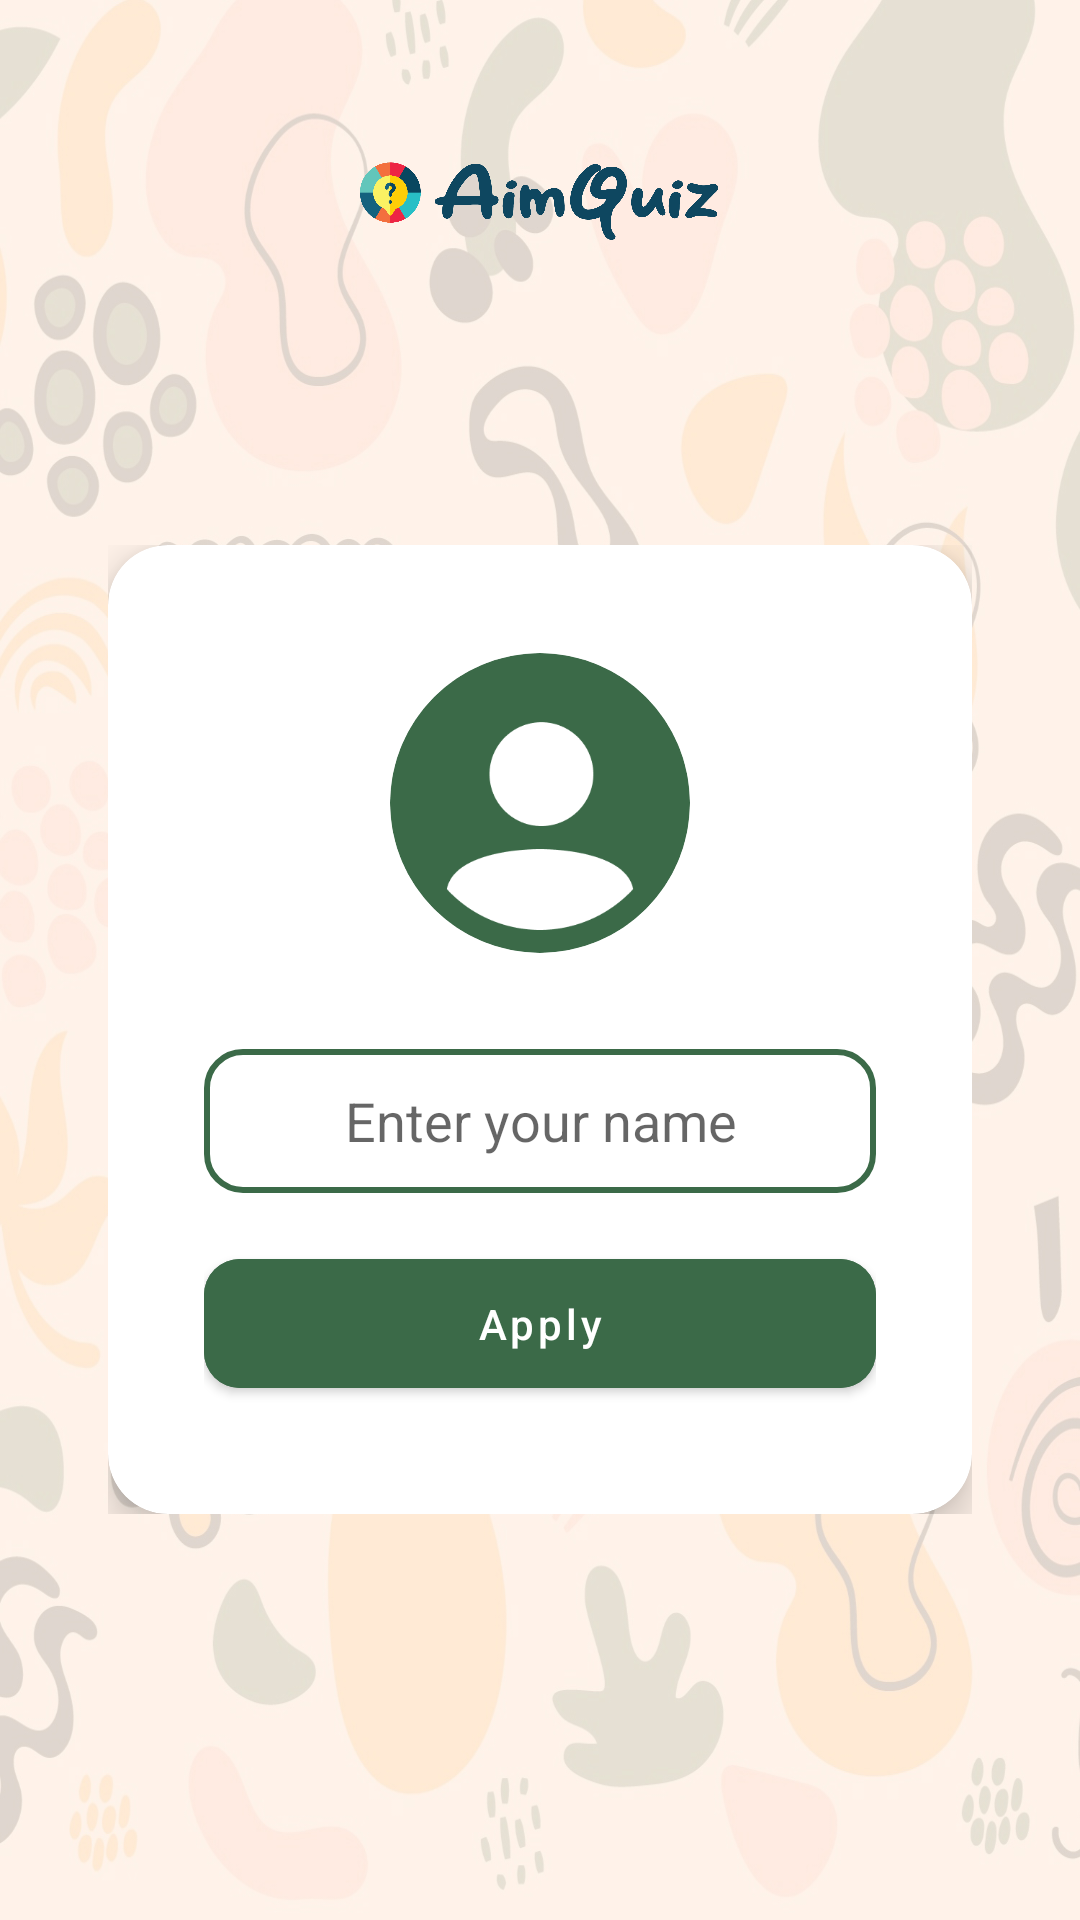

Where icons sit on this 1080 x 1920 app screen, as box(x1, y1, x2, y2):
profile: box(390, 653, 690, 953)
